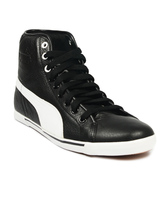shoes: (10, 25, 158, 159)
